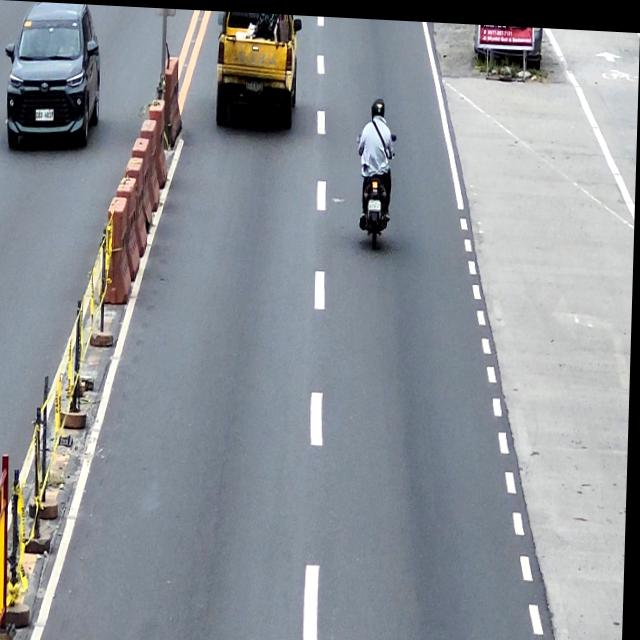Car: (4, 0, 104, 152), (215, 9, 303, 127)
License-Plate: (35, 109, 56, 122), (246, 79, 264, 89), (369, 195, 383, 207)
Motorcycle: (358, 126, 396, 248)
